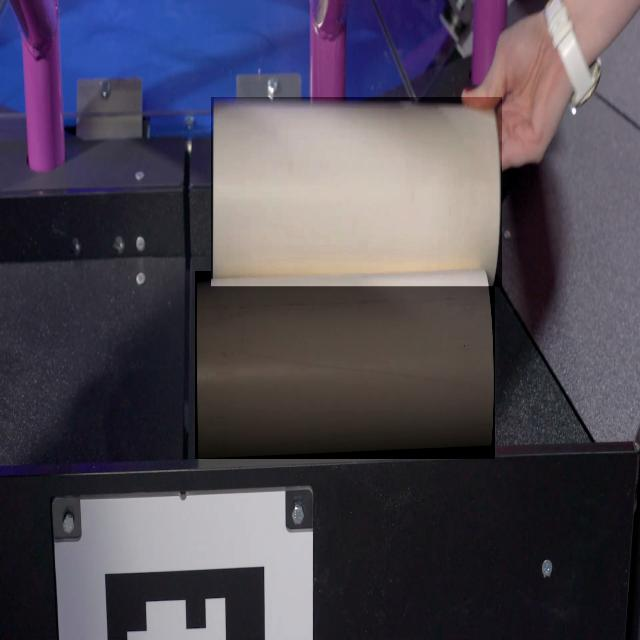Coral: (195, 271, 495, 459), (211, 98, 502, 288)
